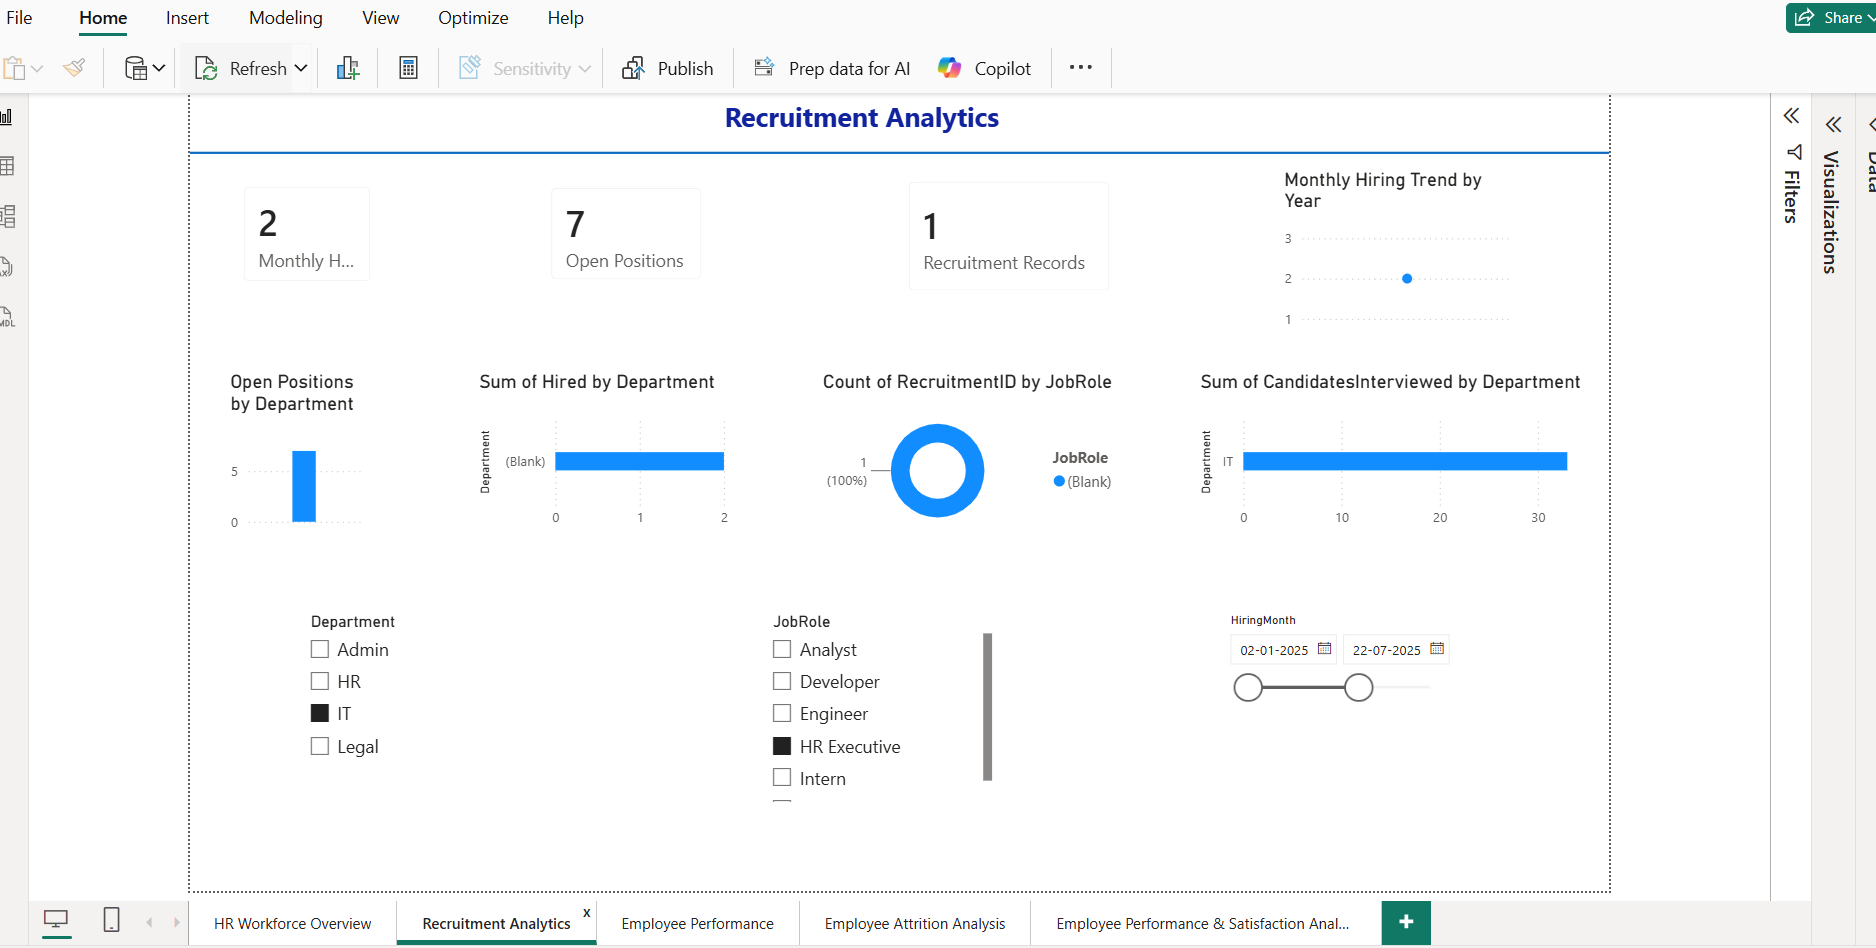

The dashboard page shown, as its layout file describes it:
{"tool":"powerbi","page":{"name":"Recruitment Analytics","canvas":[1280,720],"ordinal":1},"visuals":[{"type":"cardVisual","fields":{"Data":["Employees.Total Hires"]},"box":[31.8,67.3,148.2,119.7],"z":0},{"type":"cardVisual","fields":{"Data":["Employees.Open Positions"]},"box":[309.4,68.5,169.6,116.9],"z":1000},{"type":"cardVisual","fields":{"Data":["Recruitment.Recruitment Records"]},"box":[631,63.6,215.2,132.6],"z":2000},{"type":"lineChart","fields":{"Category":["Recruitment.HiringMonth.Variation.Date Hierarchy.Year","Recruitment.HiringMonth.Variation.Date Hierarchy.Quarter","Recruitment.HiringMonth.Variation.Date Hierarchy.Month","Recruitment.HiringMonth.Variation.Date Hierarchy.Day"],"Y":["Employees.Total Hires"]},"box":[981.9,67.3,215,150],"z":3000},{"type":"clusteredColumnChart","fields":{"Y":["Employees.Open Positions"],"Category":["Employees.Department"]},"box":[31.8,250.7,127.2,150.4],"z":4000},{"type":"clusteredBarChart","fields":{"Category":["Employees.Department"],"Y":["Sum(Recruitment.Hired)"]},"box":[255.6,250.7,234.8,150.4],"z":5000},{"type":"donutChart","fields":{"Category":["Employees.JobRole"],"Y":["CountNonNull(Recruitment.RecruitmentID)"]},"box":[566.2,250.7,286.1,150.4],"z":6000},{"type":"clusteredBarChart","fields":{"Category":["Recruitment.Department"],"Y":["Sum(Recruitment.CandidatesInterviewed)"]},"box":[906.1,250.7,365.6,150.4],"z":7000},{"type":"slicer","fields":{"Values":["Recruitment.HiringMonth"]},"box":[925.7,463.5,215.2,111.3],"z":8000},{"type":"slicer","fields":{"Values":["Recruitment.JobRole"]},"box":[512.4,463.5,215.2,181],"z":9000},{"type":"slicer","fields":{"Values":["Recruitment.Department"]},"box":[95.4,463.5,150.4,200.5],"z":10000},{"type":"textbox","box":[52.6,0,1101.8,67.3],"z":11000},{"type":"shape","box":[0,6.1,1280.3,96.6],"z":12000}]}

Visuals, with their boxes on the page's 1280x720 design canvas (x1, y1, x2, y2). These are canvas units, not pixel positions in the 1876x948 screenshot, which may show the page scaled, cropped or inside an application window:
cardVisual - Employees.Total Hires: l=32, t=67, r=180, b=187
cardVisual - Employees.Open Positions: l=309, t=68, r=479, b=185
cardVisual - Recruitment.Recruitment Records: l=631, t=64, r=846, b=196
lineChart - Recruitment.HiringMonth.Variation.Date Hierarchy.Year x Recruitment.HiringMonth.Variation.Date Hierarchy.Quarter: l=982, t=67, r=1197, b=217
clusteredColumnChart - Employees.Open Positions x Employees.Department: l=32, t=251, r=159, b=401
clusteredBarChart - Employees.Department x Sum(Recruitment.Hired): l=256, t=251, r=490, b=401
donutChart - Employees.JobRole x CountNonNull(Recruitment.RecruitmentID): l=566, t=251, r=852, b=401
clusteredBarChart - Recruitment.Department x Sum(Recruitment.CandidatesInterviewed): l=906, t=251, r=1272, b=401
slicer - Recruitment.HiringMonth: l=926, t=464, r=1141, b=575
slicer - Recruitment.JobRole: l=512, t=464, r=728, b=644
slicer - Recruitment.Department: l=95, t=464, r=246, b=664
textbox: l=53, t=0, r=1154, b=67
shape: l=0, t=6, r=1280, b=103
